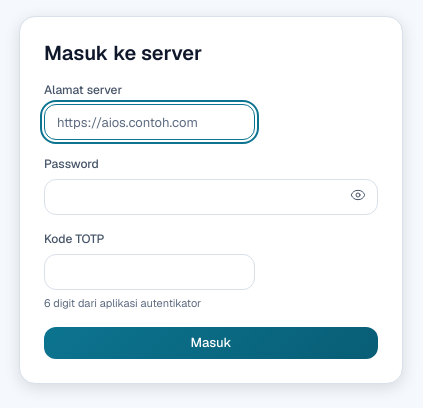
Scenario: LoginScreen › password bisa ditampilkan lewat tombol bernama jelas
The image size is (423, 408).
Click the button named "Tampilkan password" at (358, 195), box [342,179,374,211]
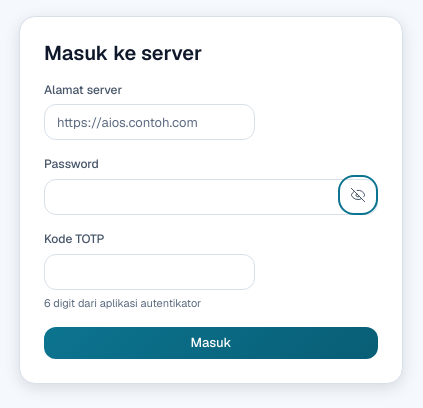
Expected: the button named "Sembunyikan password" is shown, [342,179,374,211]
